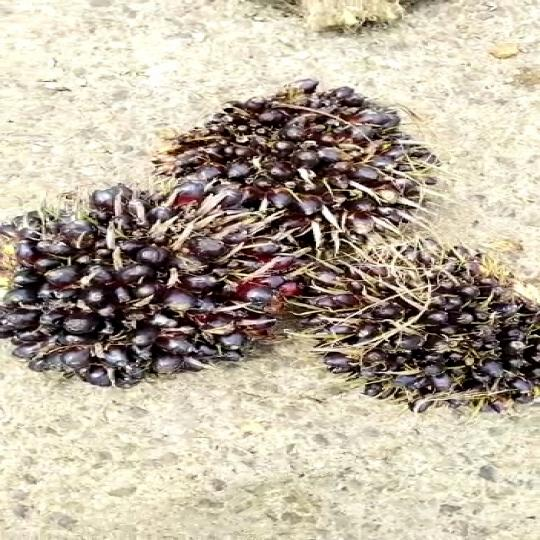mentah: (0, 178, 306, 395), (158, 72, 459, 257), (285, 244, 540, 420)
